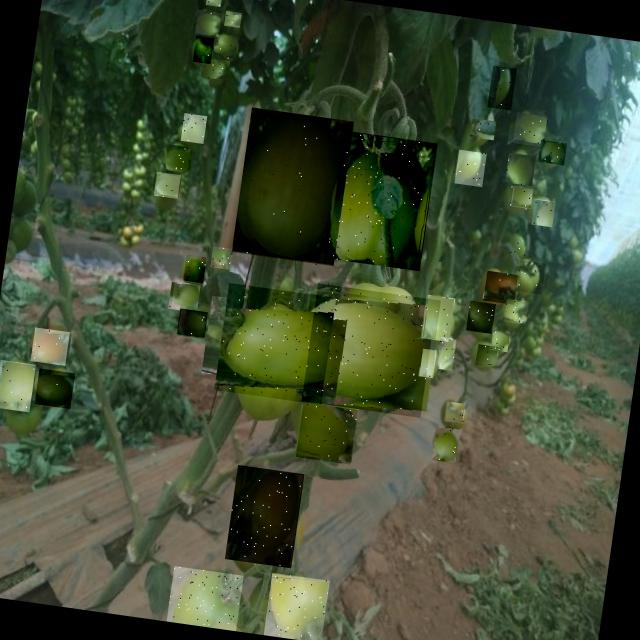Unripe Tomato: (231, 108, 354, 269), (302, 283, 436, 418), (327, 130, 438, 272), (214, 284, 336, 406), (224, 465, 304, 568), (166, 566, 244, 631), (263, 573, 329, 640), (296, 402, 358, 464), (0, 359, 35, 412), (417, 294, 455, 342), (34, 368, 76, 409), (30, 327, 70, 366), (508, 112, 546, 150), (486, 66, 516, 110), (454, 150, 486, 188), (483, 271, 518, 305), (432, 426, 462, 464), (505, 152, 537, 186), (168, 282, 200, 314), (516, 260, 546, 294), (466, 301, 496, 334), (177, 308, 208, 338), (180, 113, 208, 144), (194, 10, 222, 37), (164, 145, 192, 172), (153, 172, 180, 199), (212, 34, 240, 60), (532, 198, 556, 228), (538, 140, 566, 165), (436, 337, 456, 371), (202, 56, 228, 82), (184, 254, 206, 284), (508, 186, 533, 212), (470, 116, 495, 142), (504, 298, 528, 324), (192, 36, 214, 64), (475, 344, 498, 368), (210, 246, 233, 270), (419, 348, 437, 378), (489, 331, 512, 353), (510, 234, 530, 259), (444, 402, 466, 424), (224, 11, 242, 28), (205, 0, 223, 7)
